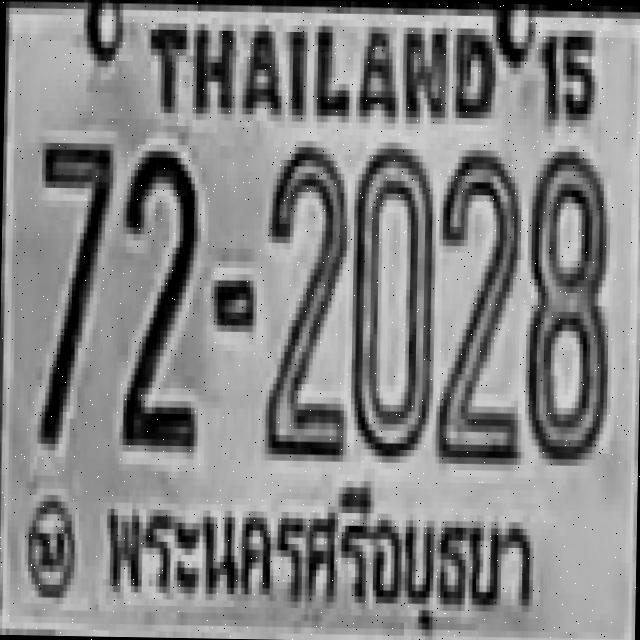0: (346, 141, 434, 456)
2: (434, 146, 520, 461), (263, 143, 346, 451), (119, 144, 195, 446)
7: (34, 136, 110, 444)
8: (522, 144, 610, 460)
Ayutthaya: (93, 469, 541, 638)
